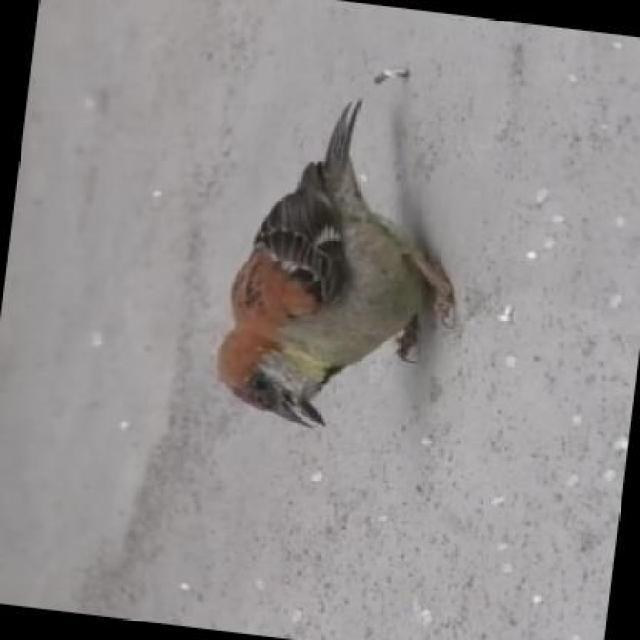Bird: (213, 96, 458, 437)
